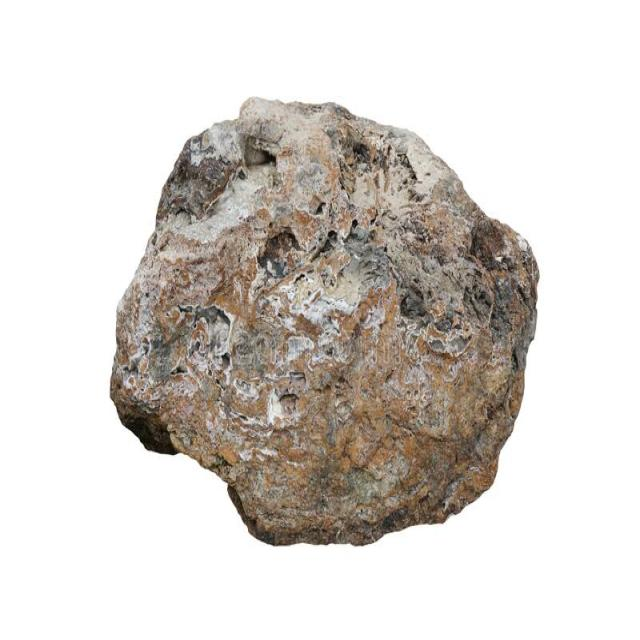Sedimentary: (113, 80, 541, 542)
